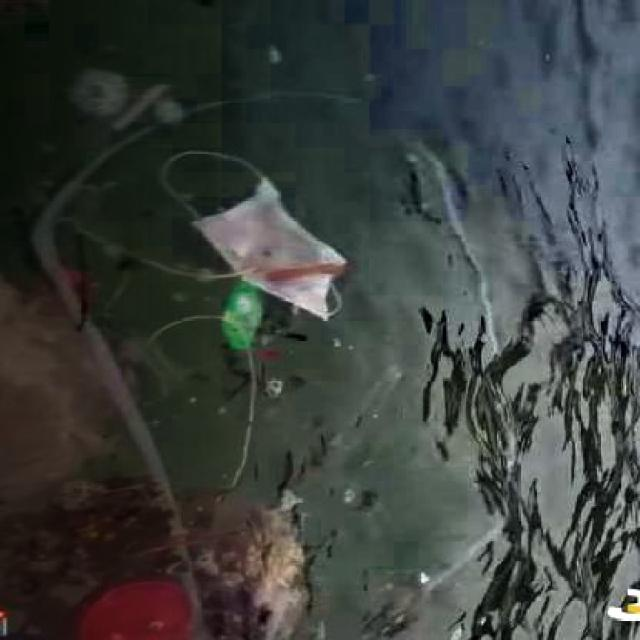Mask: (141, 144, 421, 342)
